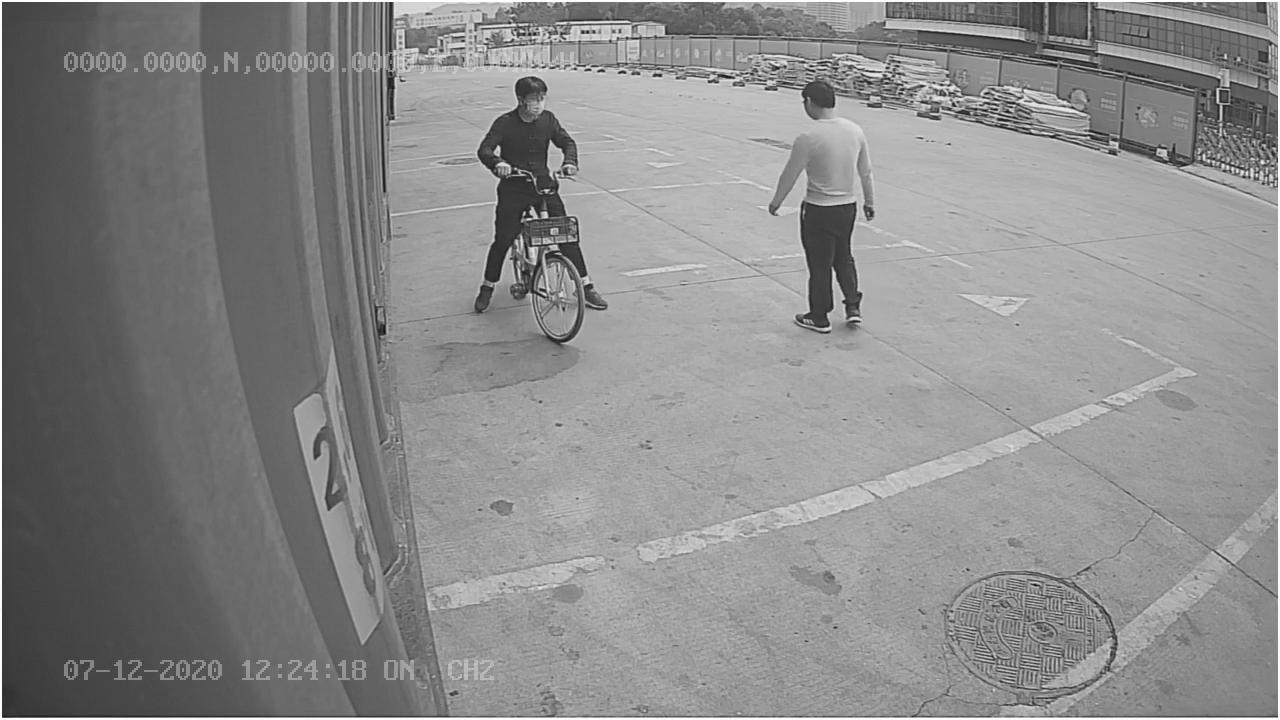person: (762, 76, 879, 338)
